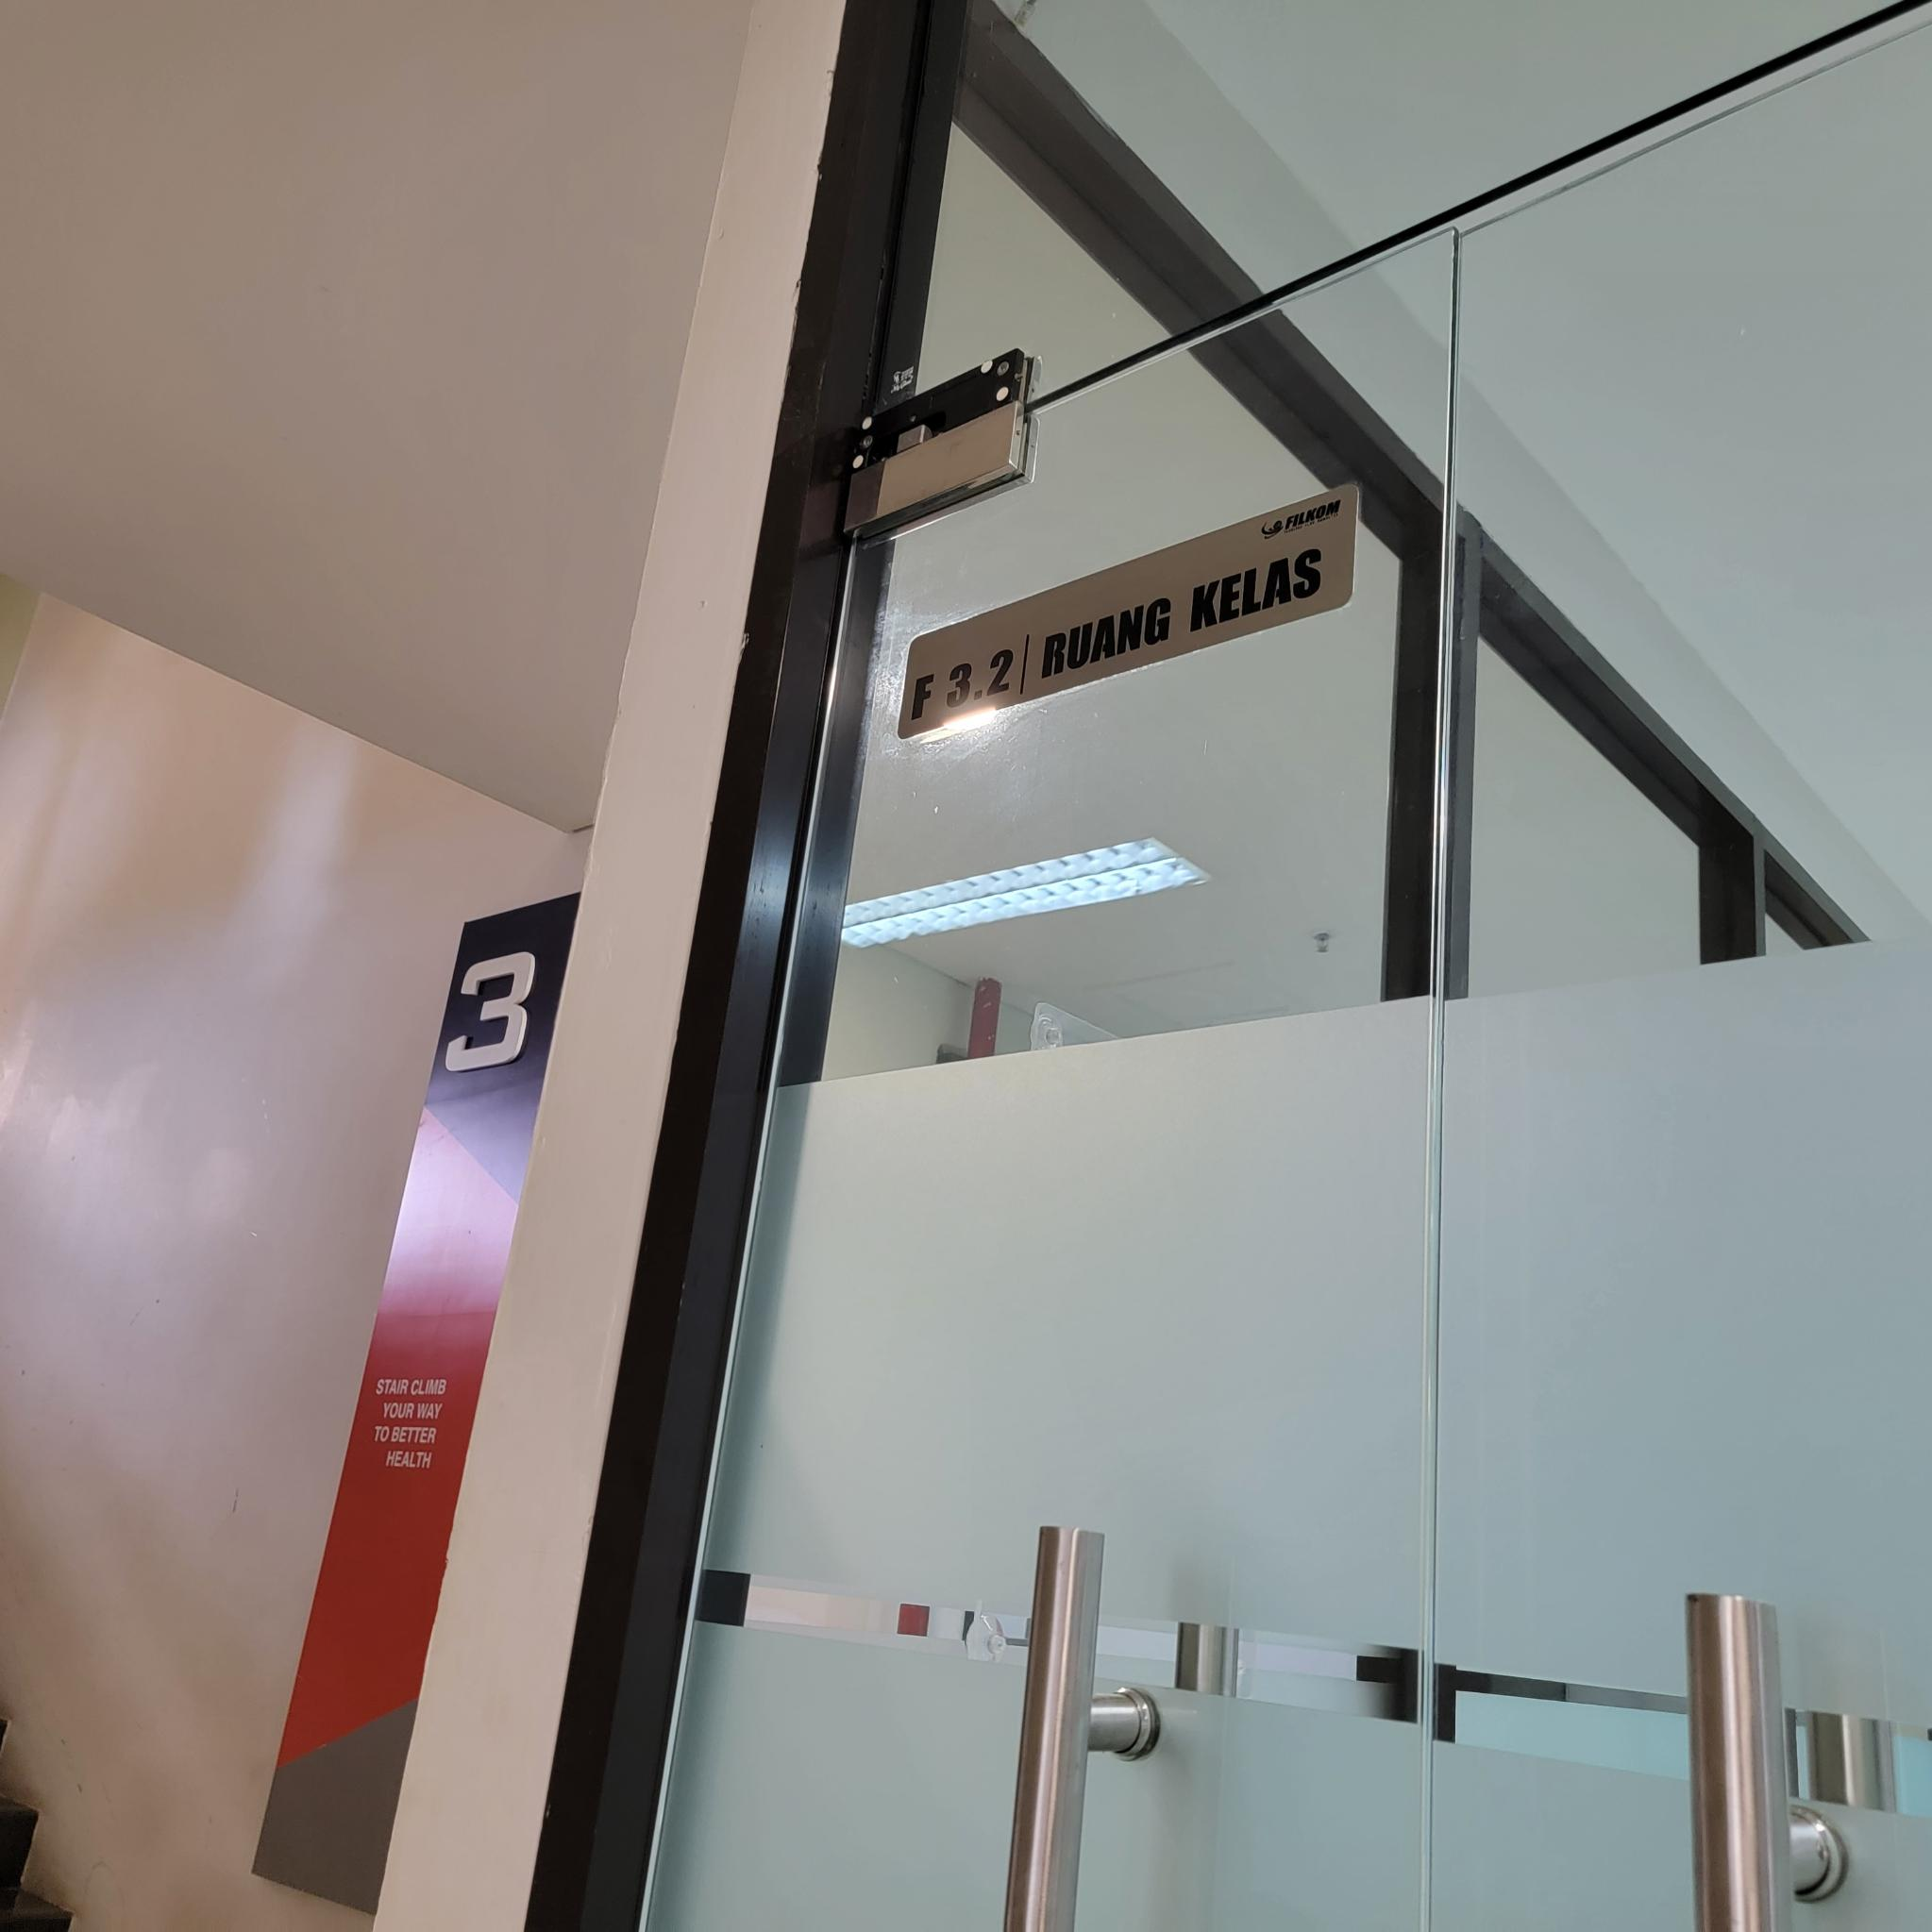plate: (897, 485, 1361, 741)
